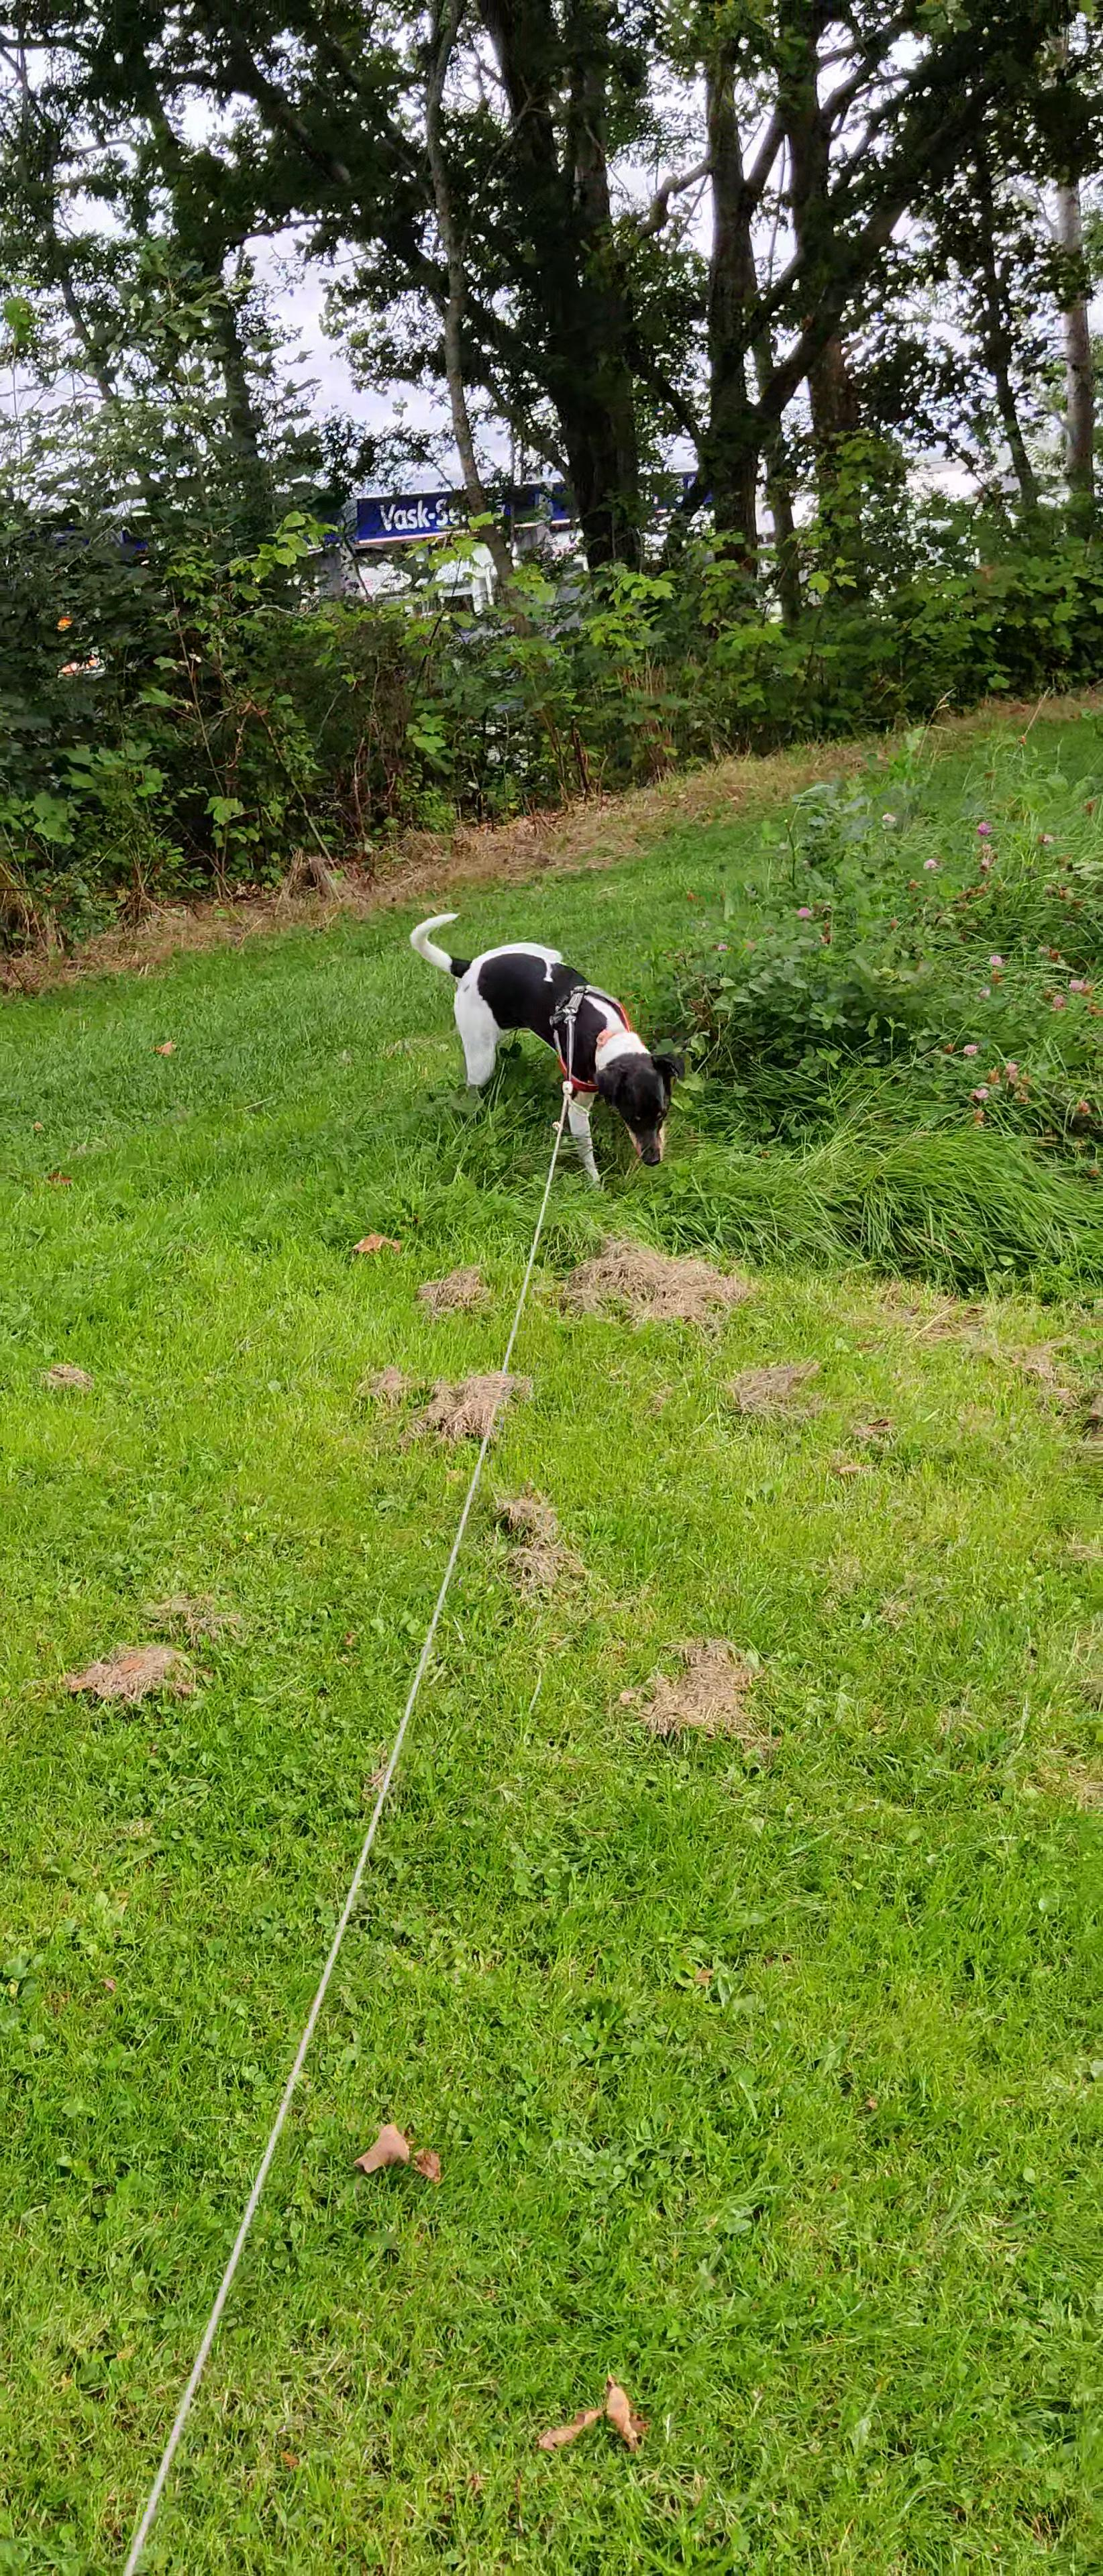Dog: (395, 895, 694, 1198)
